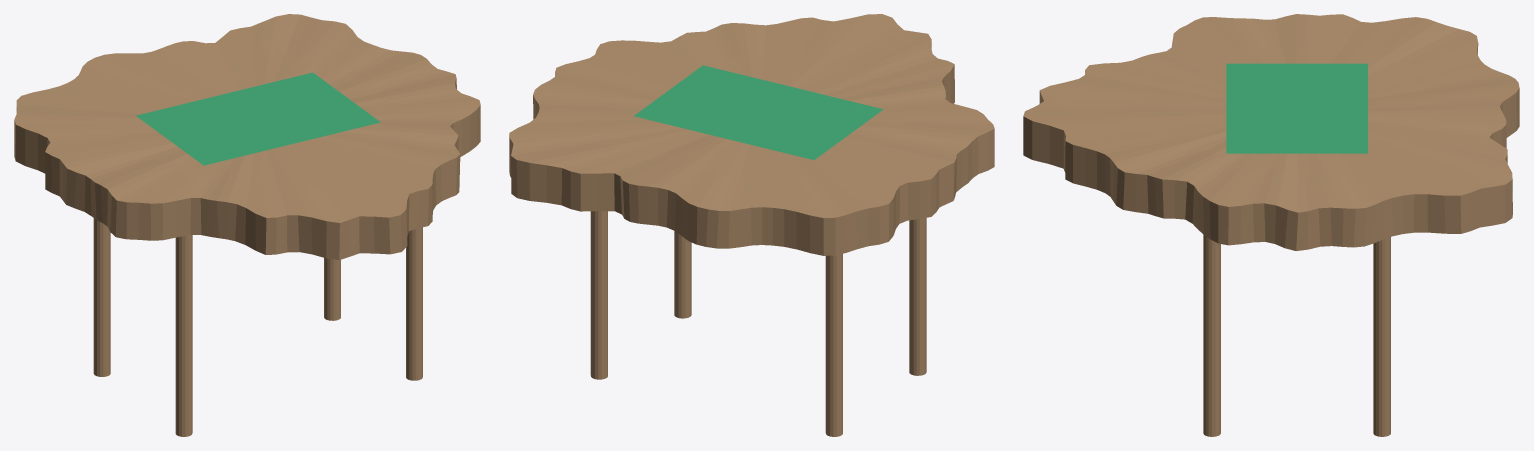
The model's file is mesa_organica_v01.glb.
The picture shows the model from 3 angles, left to right: view 1: azimuth 30°, elevation 25°; view 2: azimuth 150°, elevation 25°; view 3: azimuth 270°, elevation 25°; orthographic projection. The views are drawn at different scales.
Parts seen in each view (by area): view 1: Tapa_Organica_V1, Fieltro_V1, Pata_V1_1, Pata_V1_3, Pata_V1_2, Pata_V1_4; view 2: Tapa_Organica_V1, Fieltro_V1, Pata_V1_3, Pata_V1_4, Pata_V1_1, Pata_V1_2; view 3: Tapa_Organica_V1, Fieltro_V1, Pata_V1_2, Pata_V1_4.
Part boxes in pixels (<box>): Tapa_Organica_V1: <box>14,14,480,260</box>; Fieltro_V1: <box>136,72,380,165</box>; Pata_V1_1: <box>175,235,192,436</box>; Pata_V1_3: <box>93,218,110,376</box>; Pata_V1_2: <box>406,227,422,380</box>; Pata_V1_4: <box>324,258,340,320</box>; Tapa_Organica_V1: <box>509,14,994,255</box>; Fieltro_V1: <box>634,65,883,159</box>; Pata_V1_3: <box>825,254,842,436</box>; Pata_V1_4: <box>590,211,607,379</box>; Pata_V1_1: <box>909,218,926,375</box>; Pata_V1_2: <box>674,231,691,318</box>; Tapa_Organica_V1: <box>1023,14,1519,250</box>; Fieltro_V1: <box>1226,63,1367,153</box>; Pata_V1_2: <box>1203,234,1220,436</box>; Pata_V1_4: <box>1373,237,1390,436</box>.
Size of the model in its own units: 1.32 by 0.829 by 1.4.
